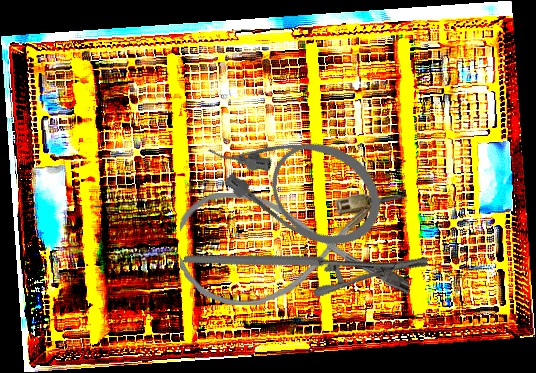Cannula: (193, 95, 399, 264), (179, 190, 409, 306)
Needle Holder: (182, 178, 431, 341)
